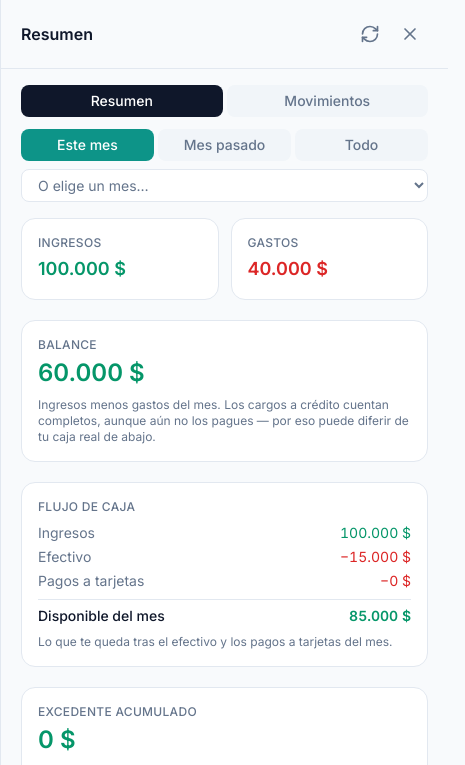
DashboardPanel › lists individual movements when the Movimientos tab is opened
Expected: the text "Balance" is shown, [38,337,97,352]
Click the button "Movimientos" at (327, 101), box [226,85,428,117]
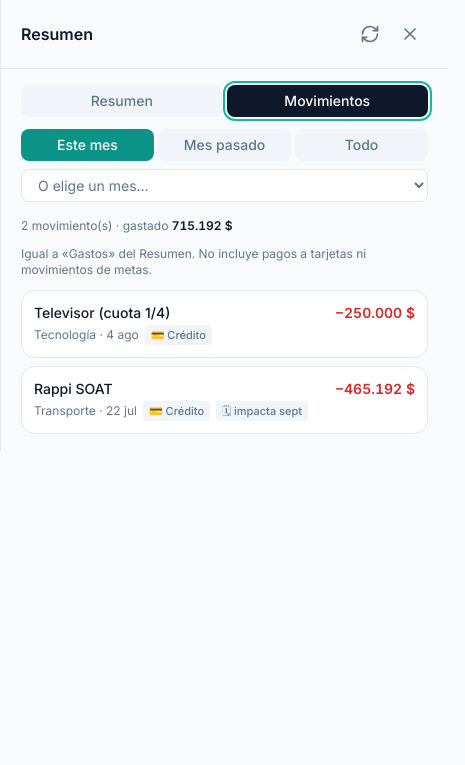
Result: the text "Televisor (cuota 1/4)" is shown at [34,304,170,321]
Result: the text "Tecnología · 4 ago" is shown at [34,327,139,343]
Result: the text "🗓 impacta sept" is shown at [216,401,308,421]
